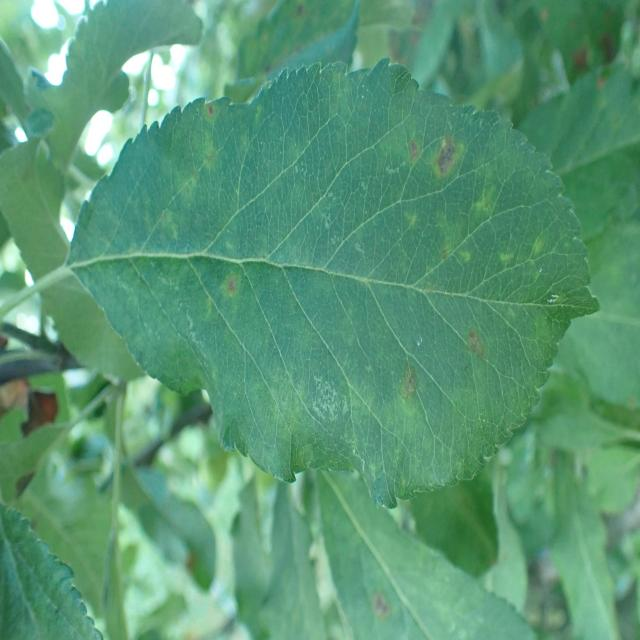scab: (142, 93, 588, 450)
